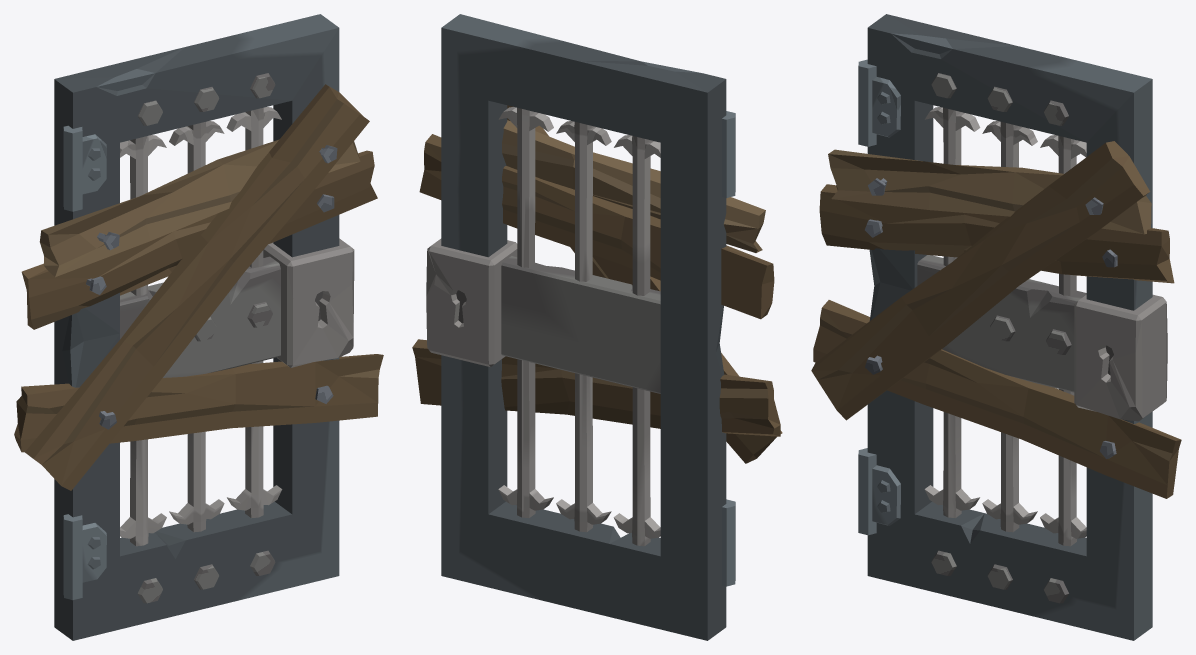
File: crypt_crypt_door_boarded.gltf
The picture shows the model from 3 angles, left to right: view 1: azimuth 30°, elevation 25°; view 2: azimuth 150°, elevation 25°; view 3: azimuth 330°, elevation 25°; orthographic projection.
Visible parts, largest first — view 1: crypt_crypt_door_boarded; view 2: crypt_crypt_door_boarded; view 3: crypt_crypt_door_boarded.
Part boxes in pixels (x1,y1,x2,y2): crypt_crypt_door_boarded: [14, 14, 383, 640]; crypt_crypt_door_boarded: [412, 14, 782, 640]; crypt_crypt_door_boarded: [811, 14, 1181, 640].
Bounding box in the file's own units: 1.36 × 1.97 × 0.2588.
Materials: 1 (1 with a texture image).
